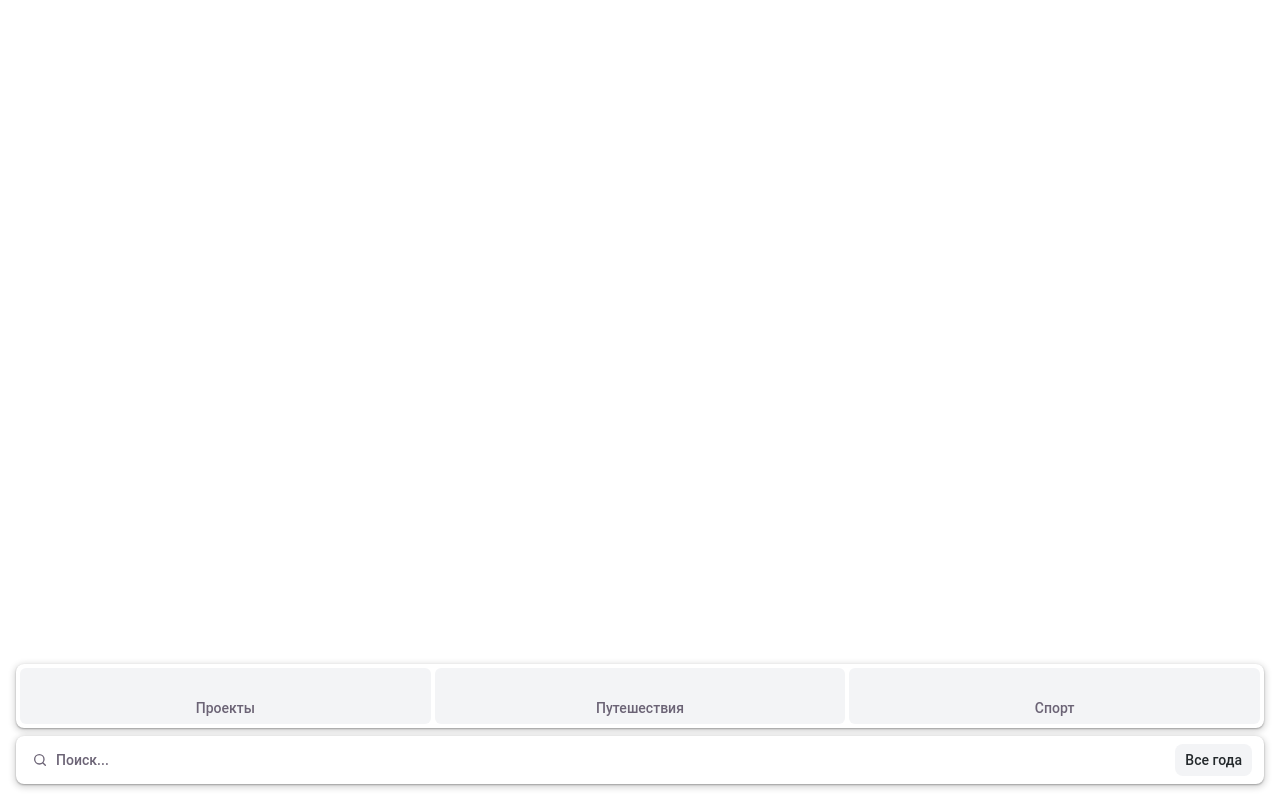
Scenario: CardsMobile/Index › opens search overlay from the search field
This screenshot has width=1280, height=800.
Click the button with aria-label "Открыть поиск": (82,760) [16,736,1264,784]
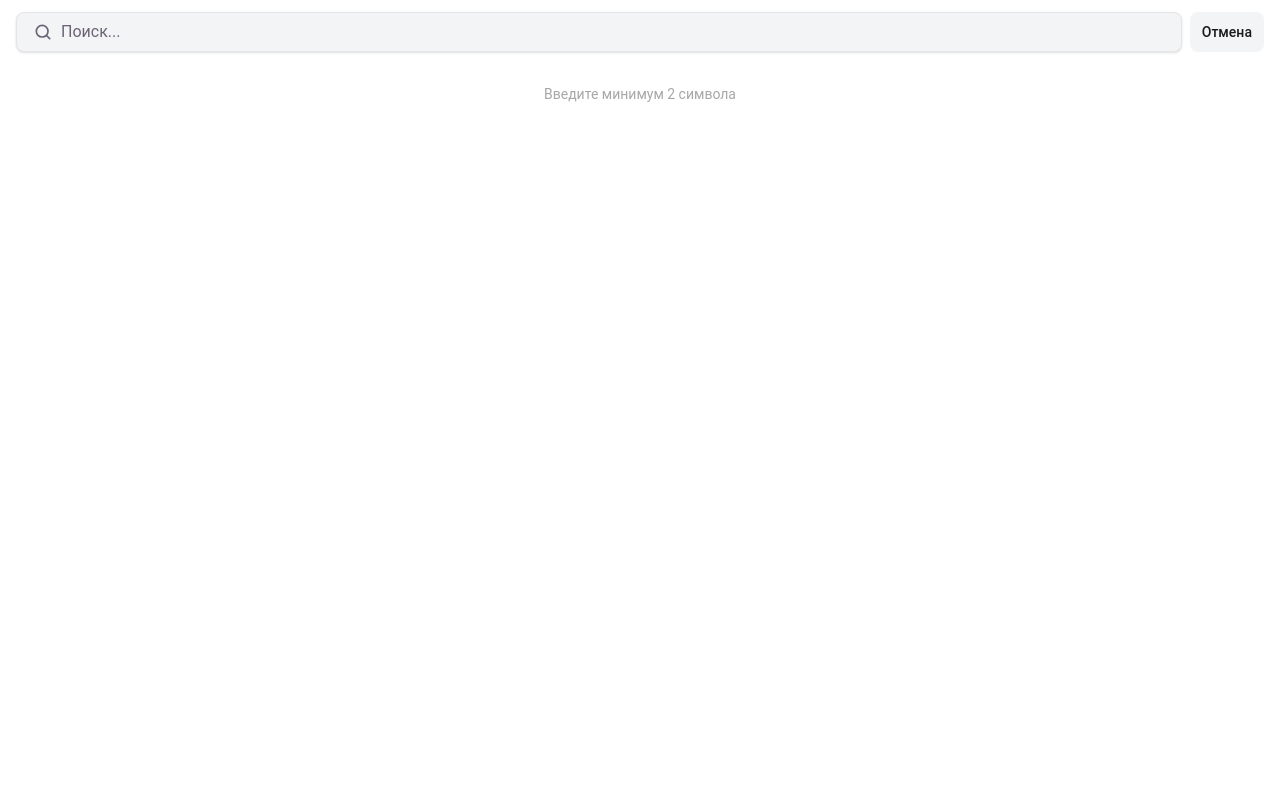
Check: the text "Отмена" is shown, box [1190,12,1264,52]
